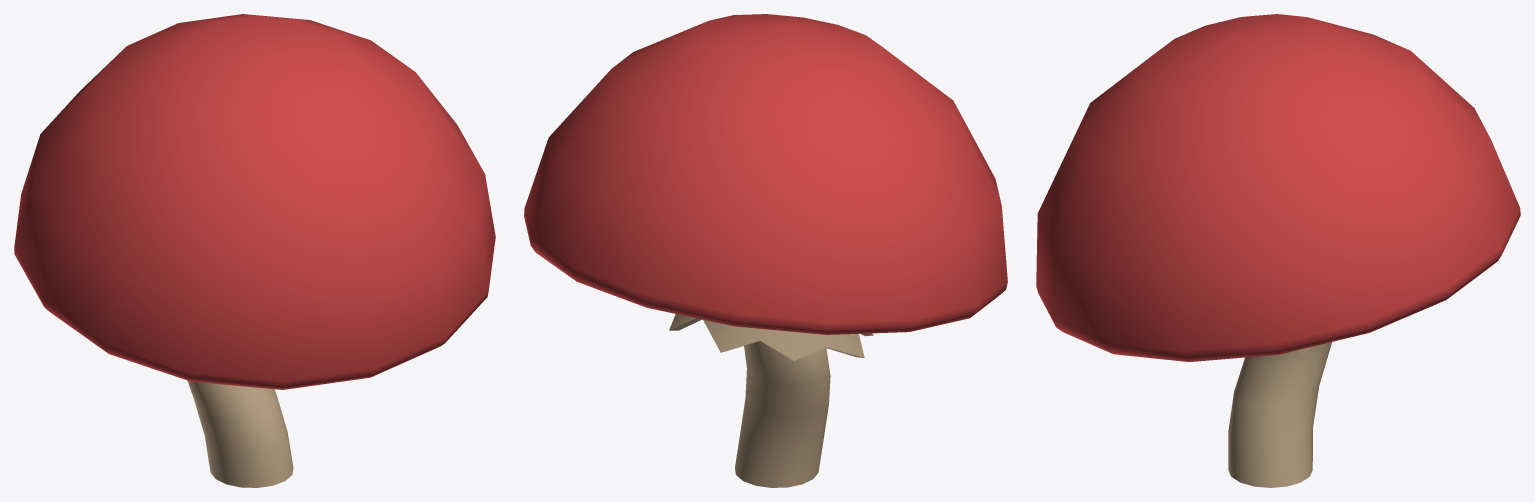
File: Mashroom_01_4.fbx
3 renders of one model, left to right at view 1: azimuth 30°, elevation 25°; view 2: azimuth 150°, elevation 25°; view 3: azimuth 270°, elevation 25°, orthographic.
Visible parts, largest first — view 1: Mashroom_01_4; view 2: Mashroom_01_4; view 3: Mashroom_01_4.
Boxes of the visible parts, left/top/right/bottom form: Mashroom_01_4: left=14, top=14, right=495, bottom=487; Mashroom_01_4: left=524, top=14, right=1007, bottom=487; Mashroom_01_4: left=1036, top=14, right=1520, bottom=487.
Bounding box in the file's own units: 142 × 138 × 140.
